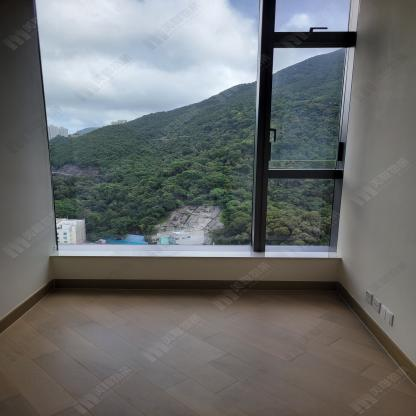Windowsill: (33, 0, 360, 288)
